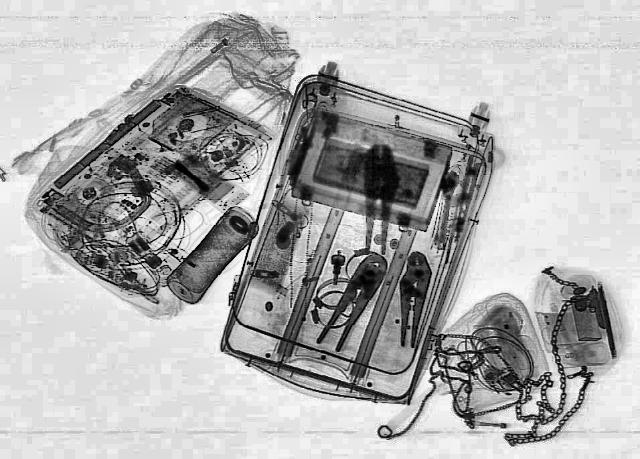Pliers: (308, 251, 397, 352), (390, 251, 434, 350), (362, 144, 392, 254)
